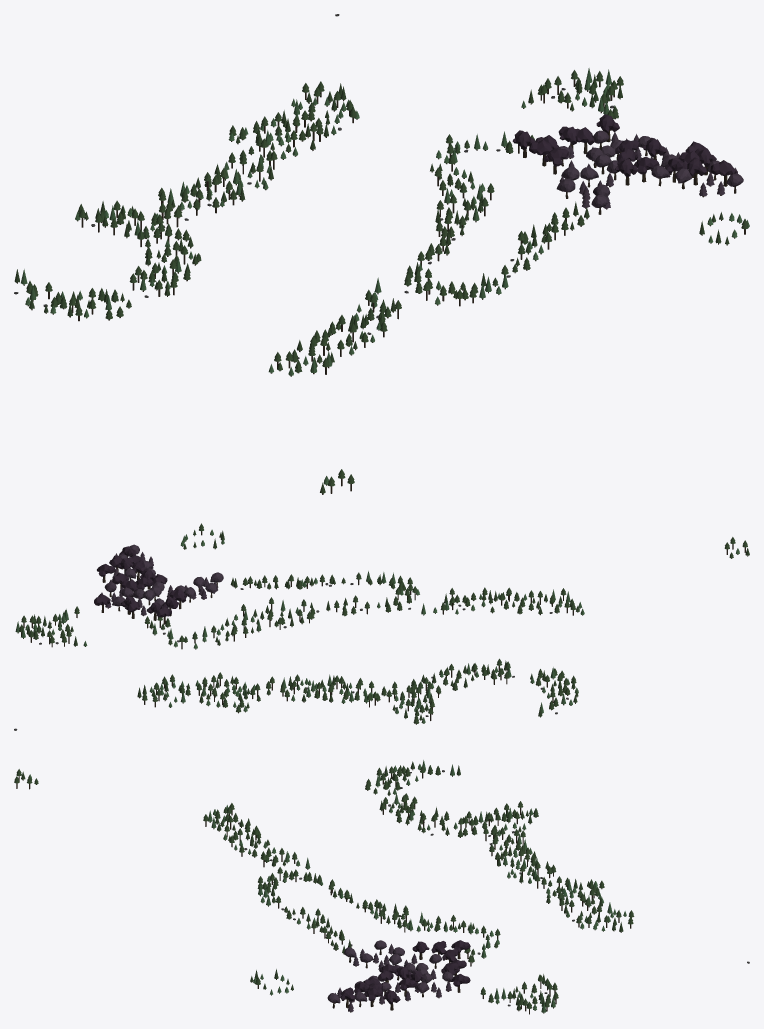
File: Trees.glb
The picture shows the model from 3 angles, top to bottom: view 1: azimuth 30°, elevation 25°; view 2: azimuth 150°, elevation 25°; view 3: azimuth 270°, elevation 25°; orthographic projection. The views are drawn at different scales.
Visible parts, largest first — view 1: 5_Forest.004; view 2: 5_Forest.004; view 3: 5_Forest.004.
Boxes of the visible parts, left/top/right/bottom form: 5_Forest.004: left=14, top=14, right=749, bottom=494; 5_Forest.004: left=14, top=523, right=749, bottom=730; 5_Forest.004: left=14, top=760, right=749, bottom=1014.
Bounding box in the file's own units: 141 × 6.65 × 179.
